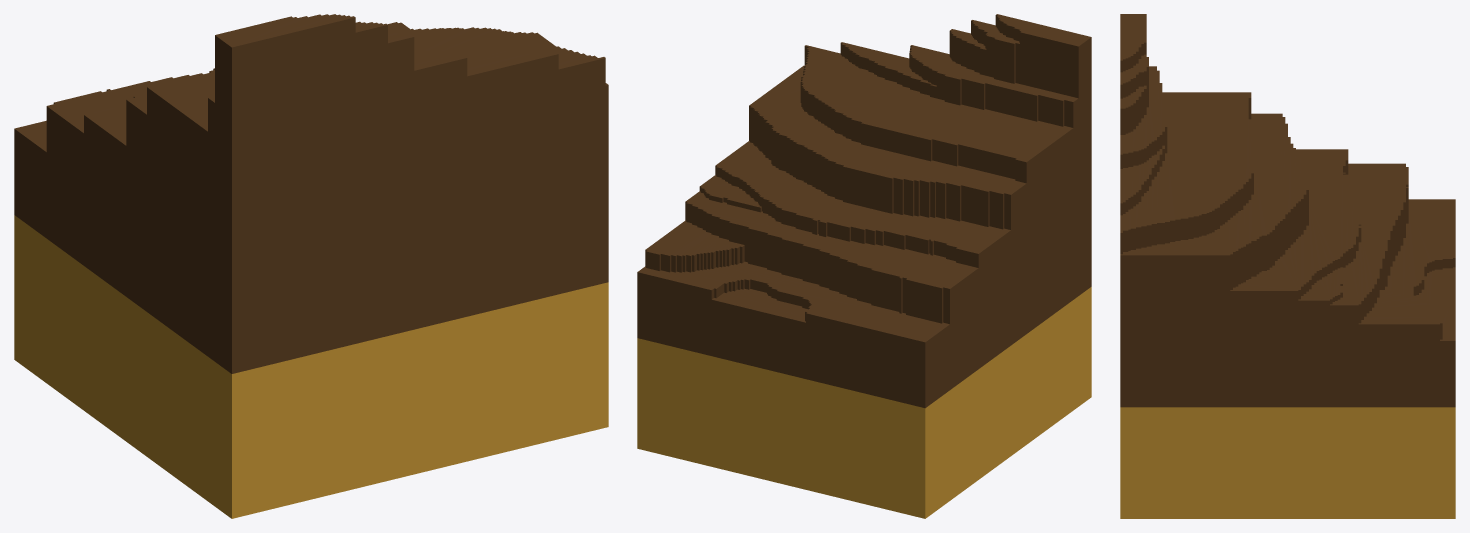
The picture shows the model from 3 angles, left to right: view 1: azimuth 30°, elevation 25°; view 2: azimuth 150°, elevation 25°; view 3: azimuth 270°, elevation 25°; orthographic projection. The views are drawn at different scales.
Visible parts, largest first — view 1: 12P; view 2: 12P; view 3: 12P.
Part boxes in pixels (x1,y1,x2,y2): 12P: (14, 14, 608, 518); 12P: (637, 14, 1091, 518); 12P: (1120, 14, 1455, 518).
Bounding box in the file's own units: 12.8 × 15.3 × 12.8.
1 material, 1 textured.
